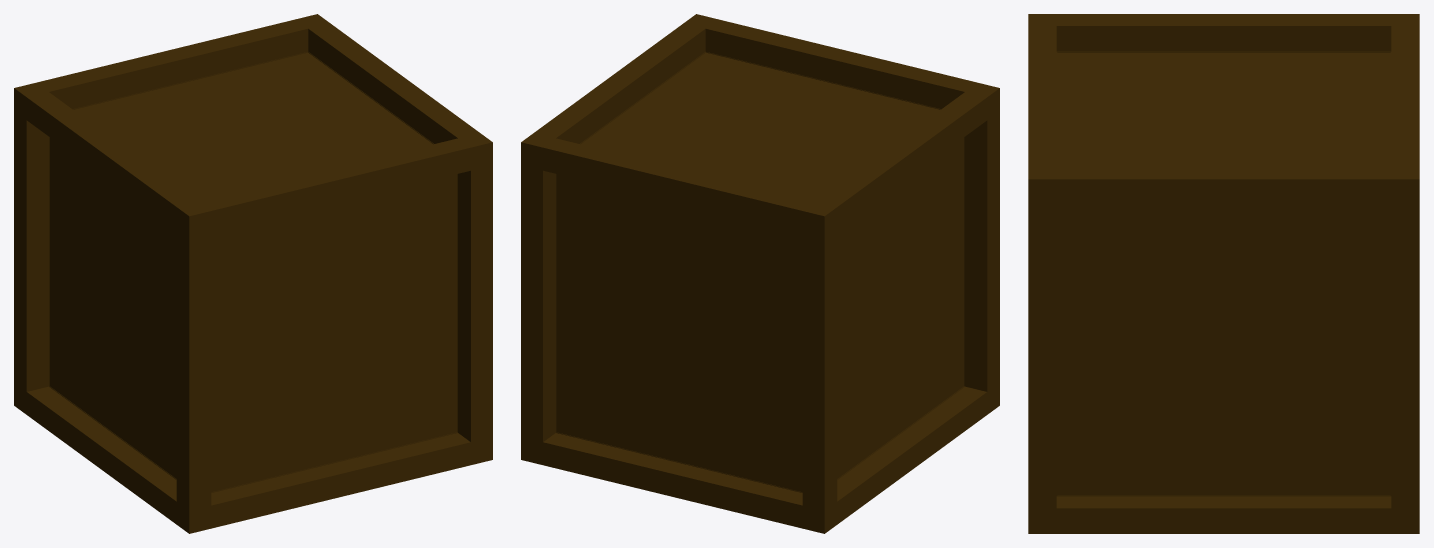
3 views of the same model, side by side, from view 1: azimuth 30°, elevation 25°; view 2: azimuth 150°, elevation 25°; view 3: azimuth 270°, elevation 25° (orthographic). The views are drawn at different scales.
Visible parts, largest first — view 1: Cube; view 2: Cube; view 3: Cube.
Part boxes in pixels (x1,y1,x2,y2): Cube: [14, 14, 492, 533]; Cube: [521, 14, 999, 533]; Cube: [1028, 14, 1419, 533].
Size of the model in its own units: 200 by 200 by 200.
